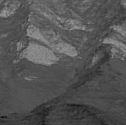Target: (70, 65, 80, 74)
